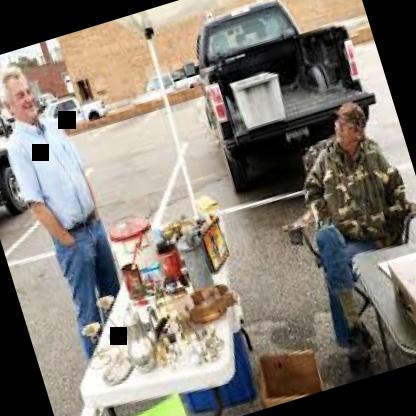car: (167, 0, 395, 200)
